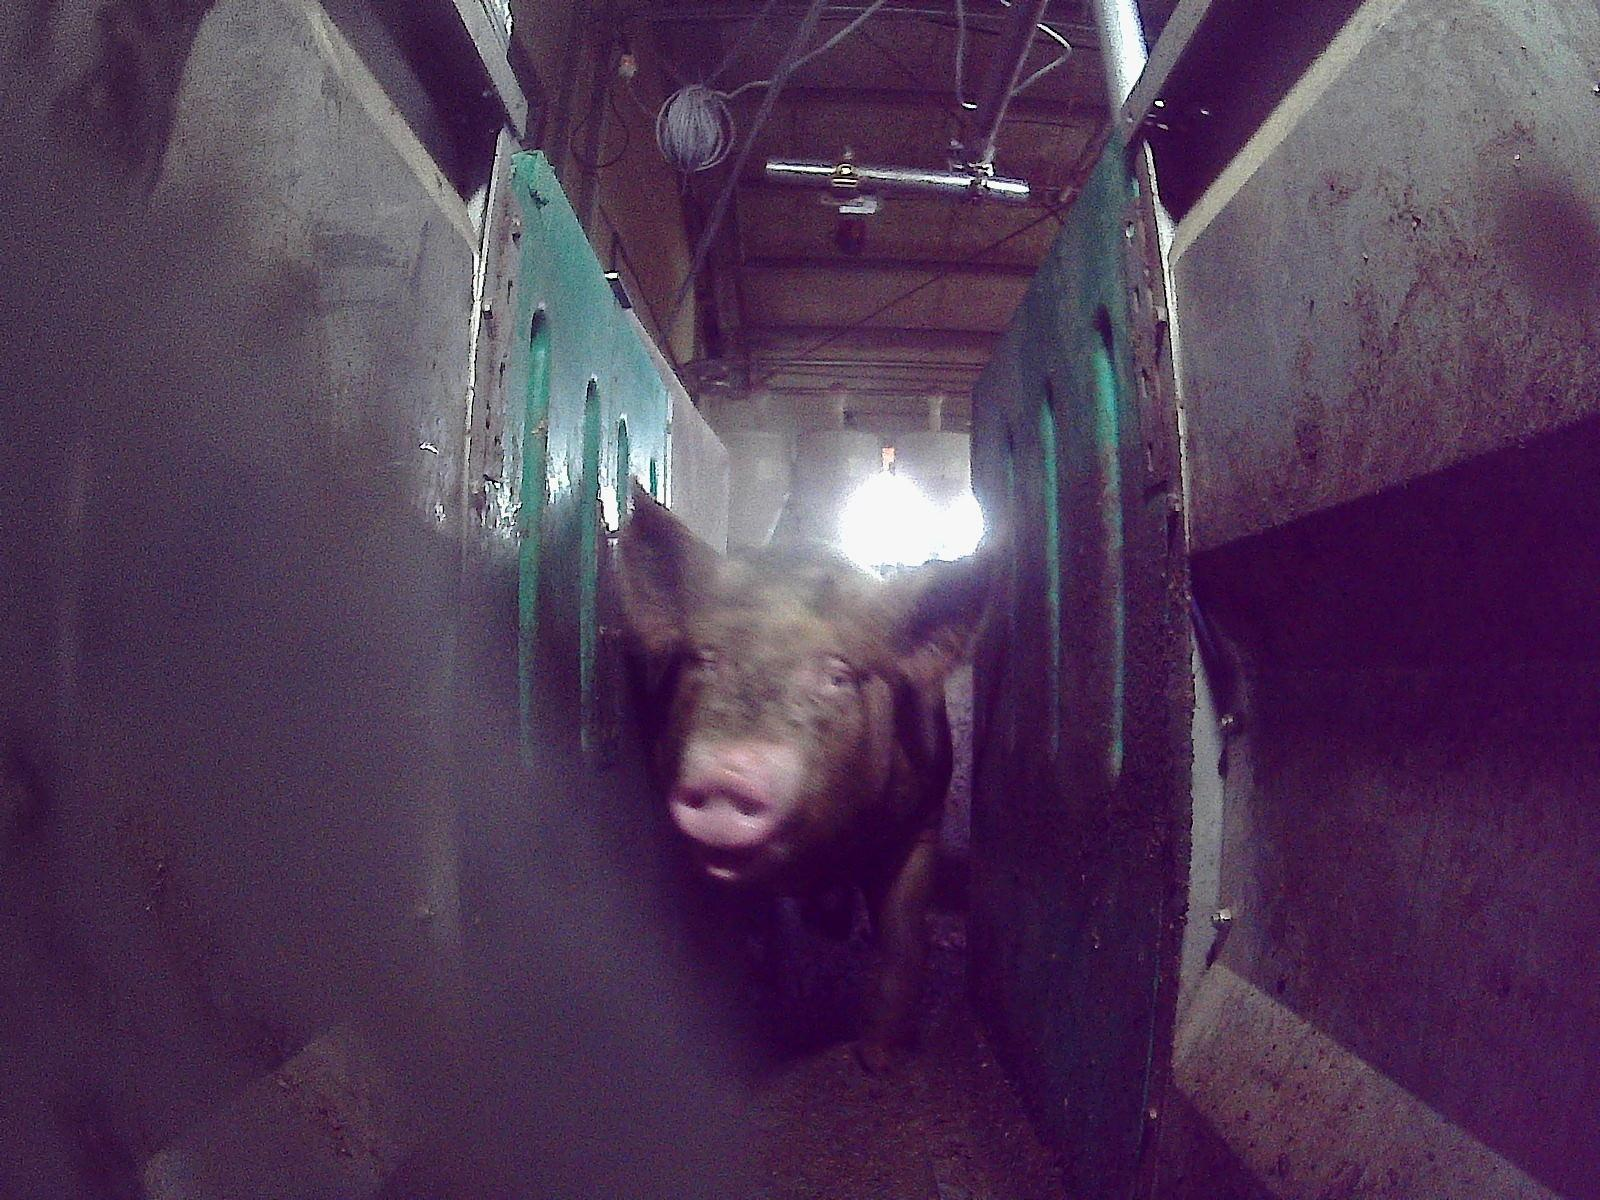Face: (667, 559, 901, 882)
